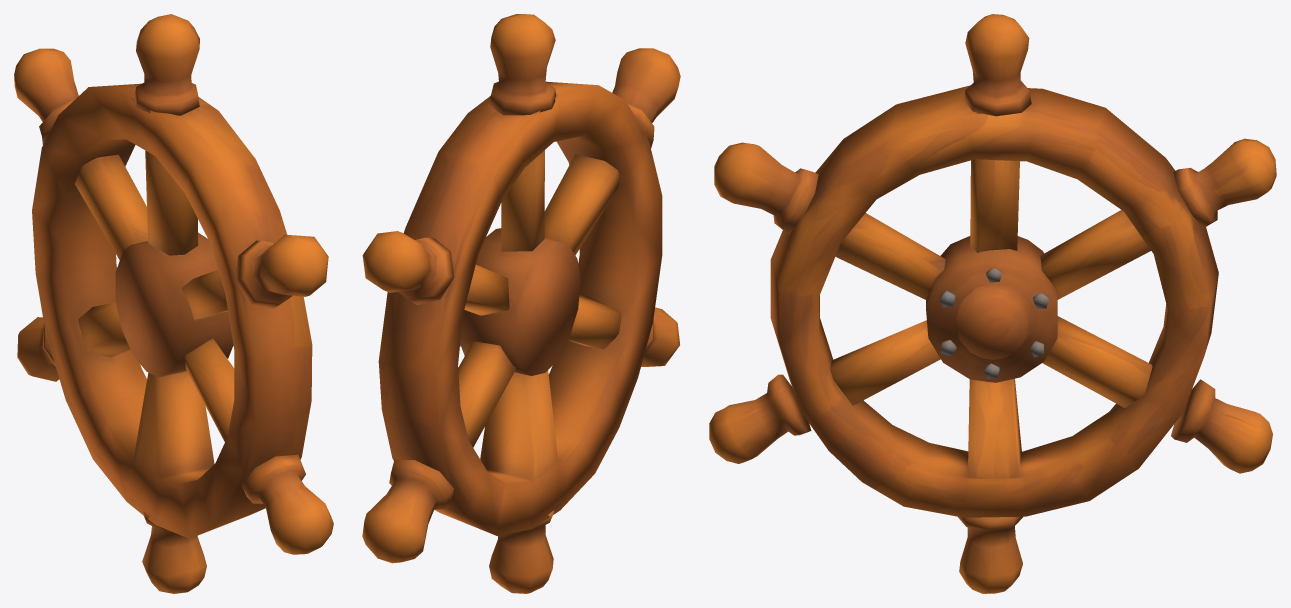
3 views of the same model, side by side, from view 1: azimuth 30°, elevation 25°; view 2: azimuth 150°, elevation 25°; view 3: azimuth 270°, elevation 25° (orthographic).
Parts seen in each view (by area): view 1: tripo_node_f19a63d0-e3c6-4bc5-9dce-5fe16add06e8; view 2: tripo_node_f19a63d0-e3c6-4bc5-9dce-5fe16add06e8; view 3: tripo_node_f19a63d0-e3c6-4bc5-9dce-5fe16add06e8.
Boxes of the visible parts, <box> form: tripo_node_f19a63d0-e3c6-4bc5-9dce-5fe16add06e8: <box>14,14,333,593</box>; tripo_node_f19a63d0-e3c6-4bc5-9dce-5fe16add06e8: <box>362,14,680,593</box>; tripo_node_f19a63d0-e3c6-4bc5-9dce-5fe16add06e8: <box>709,14,1276,593</box>.
Size of the model in its own units: 0.1582 by 0.998 by 0.9004.
Materials: 1 (1 with a texture image).
